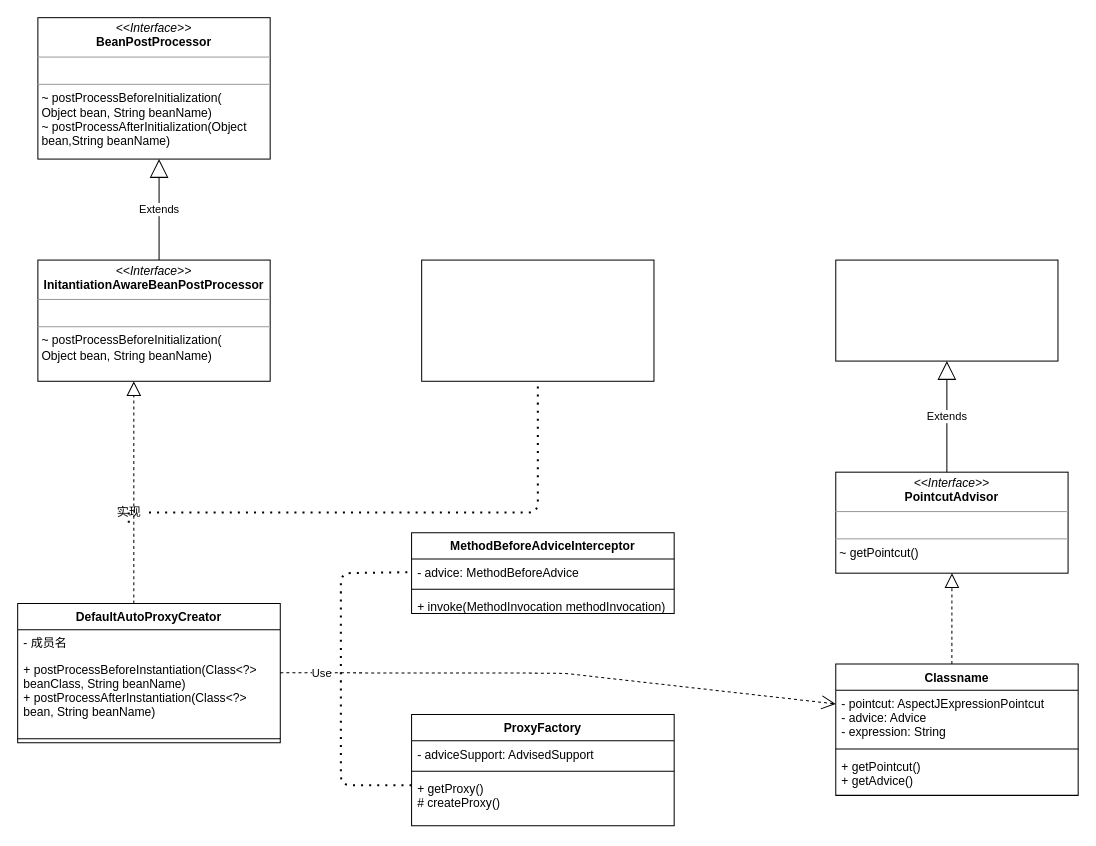
This 1096x846 diagram has some shape labels left out. Here are the shapes that lost their labels. From the top down, the centre of each, then its label:
(537,320): <<Interface>> BeanFactoryAware ~ setBeanFactory(BeanFactory beanFactory)
(946,310): <<Interface>> Advisor ~ getAdvice()
